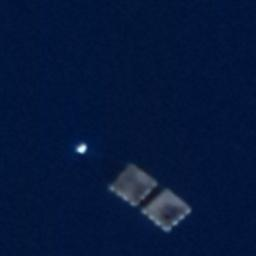square_cover: (136, 183, 196, 237), (102, 160, 165, 211)
